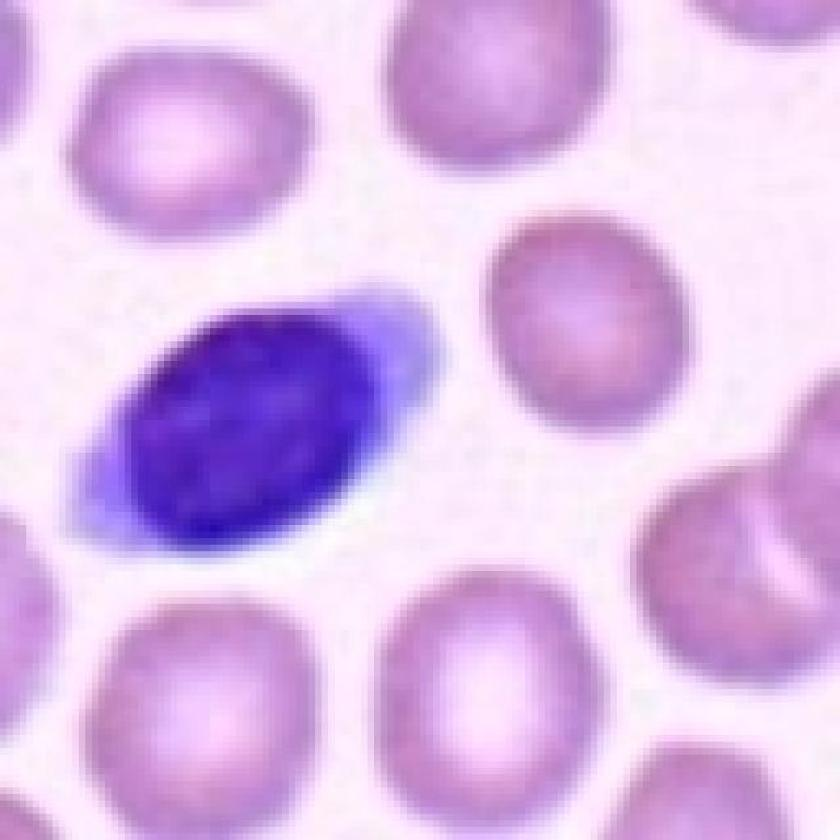lymphocyte: (63, 274, 451, 573)
